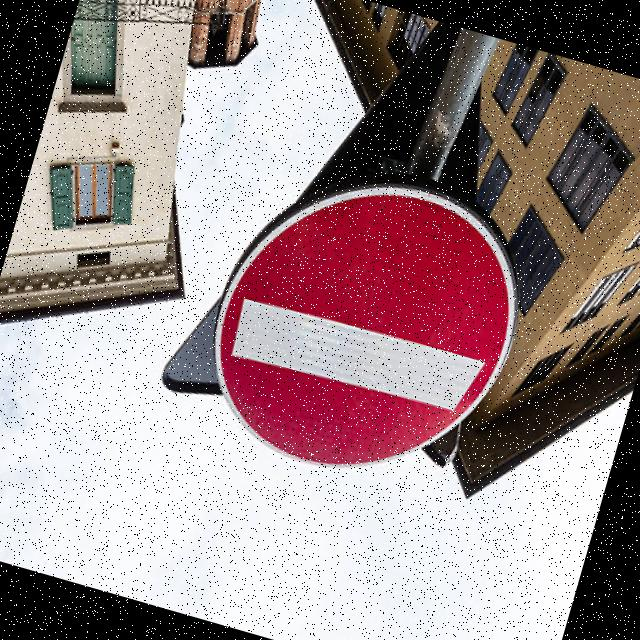do_not_enter: (177, 134, 550, 527)
